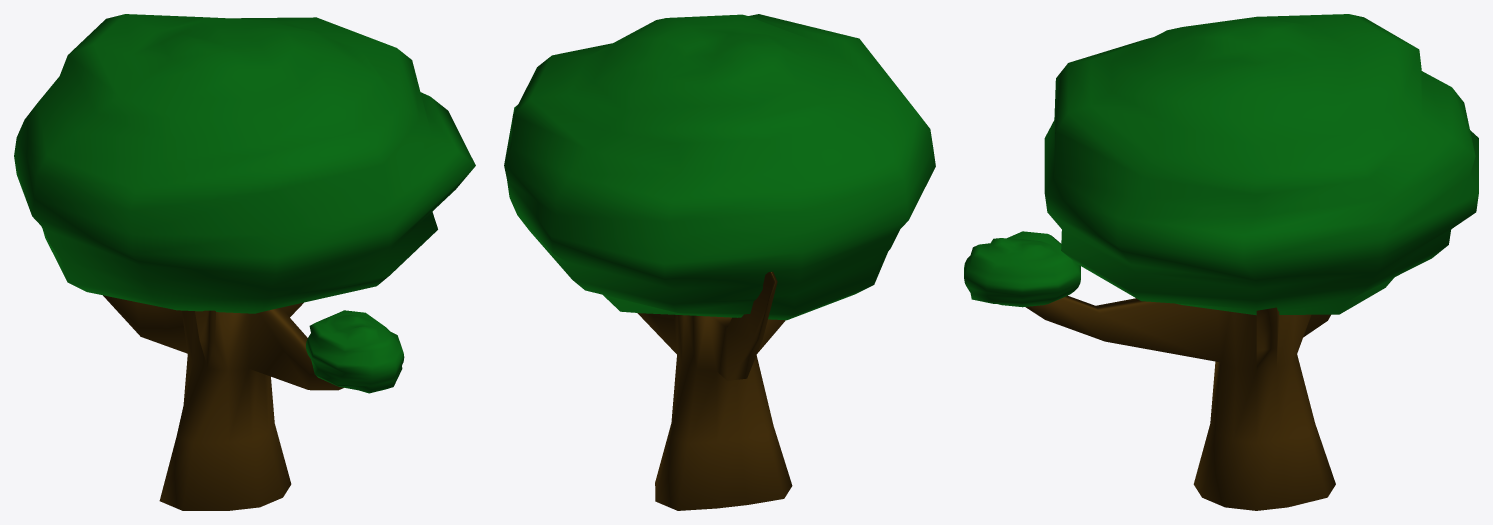
File: Tree.fbx
3 views of the same model, side by side, from view 1: azimuth 30°, elevation 25°; view 2: azimuth 150°, elevation 25°; view 3: azimuth 270°, elevation 25° (orthographic). The views are drawn at different scales.
Parts seen in each view (by area): view 1: polySurface6; view 2: polySurface6; view 3: polySurface6.
Boxes of the visible parts, x1,y1,x2,y2 form: polySurface6: (14, 14, 475, 510); polySurface6: (504, 14, 935, 510); polySurface6: (964, 14, 1478, 510).
Size of the model in its own units: 15.88 by 16.43 by 17.31.
